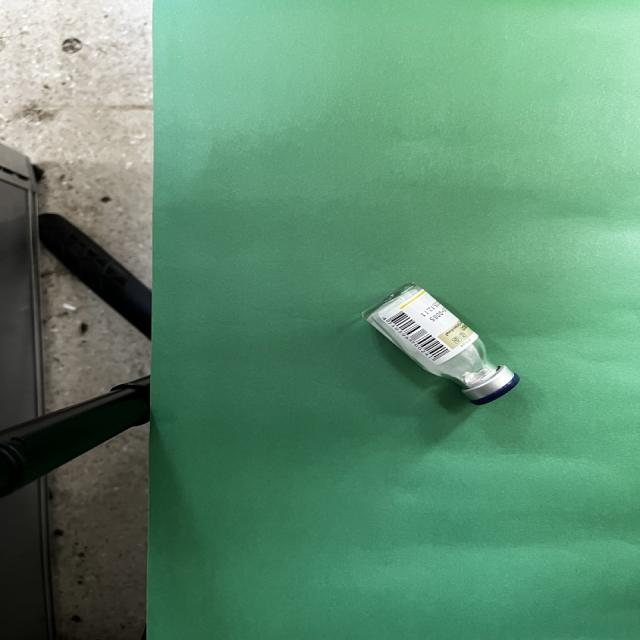Vials: (362, 283, 519, 404)
